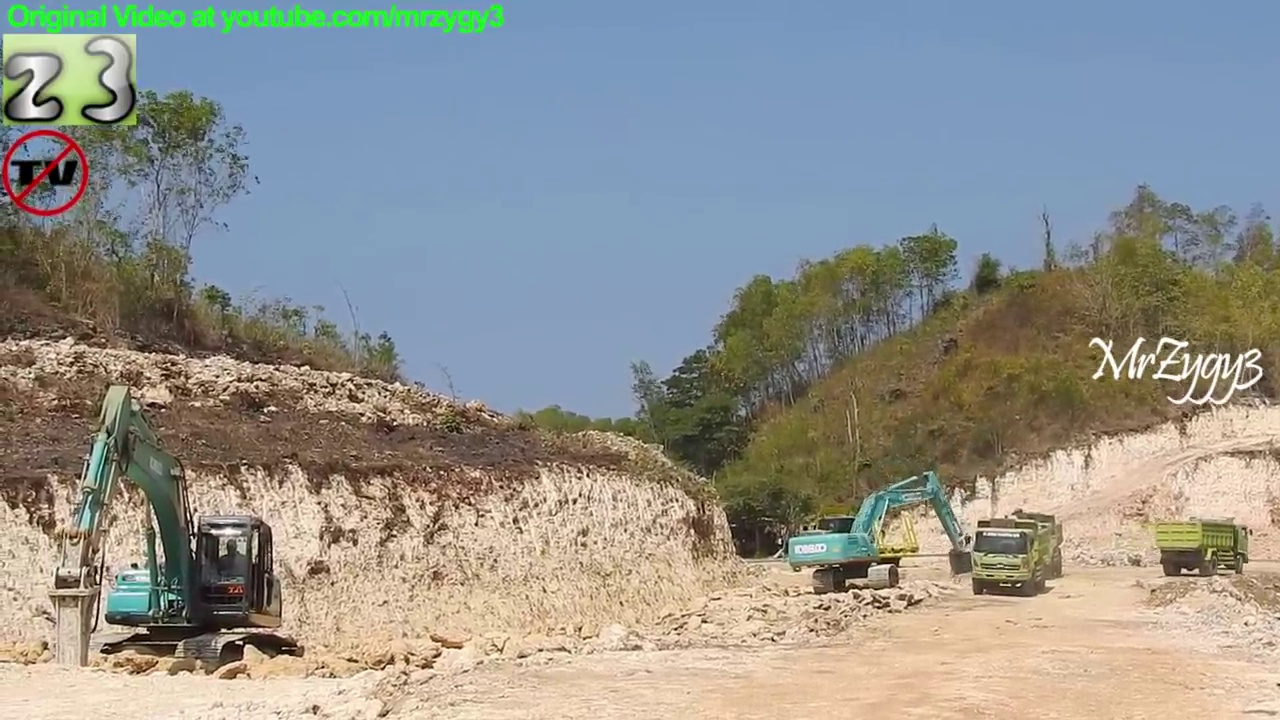excavator: (786, 467, 977, 602)
excavator breaker: (43, 376, 306, 686)
truck: (965, 516, 1051, 599), (1151, 513, 1255, 579), (984, 507, 1067, 582)
